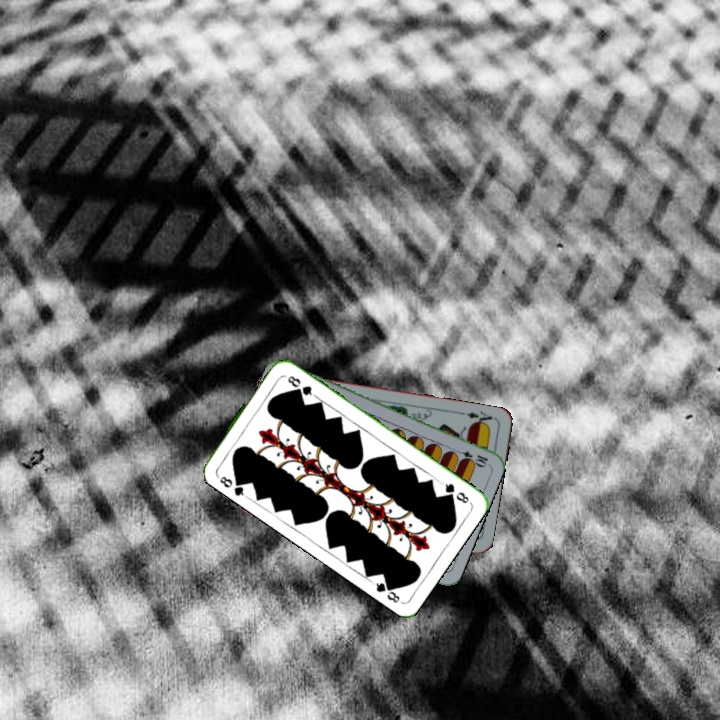E10: (450, 446, 490, 468)
EA: (457, 407, 498, 428)
G8: (212, 471, 248, 499), (437, 478, 472, 506)
